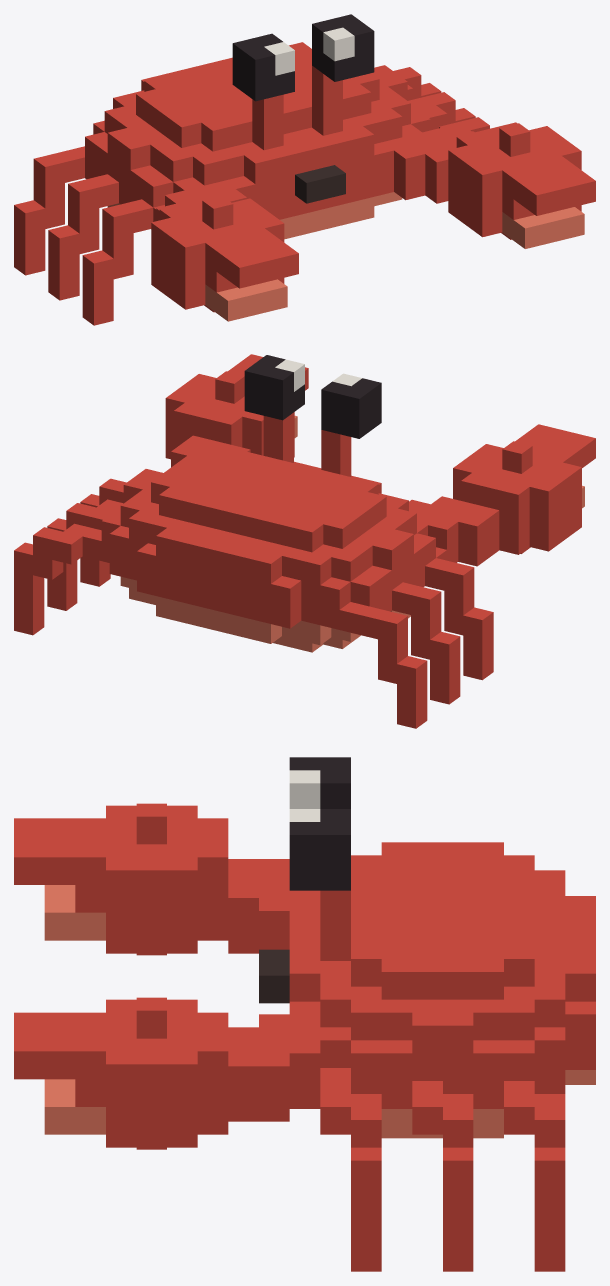
Rendered from crab.glb.
3 renders of one model, top to bottom at view 1: azimuth 30°, elevation 25°; view 2: azimuth 150°, elevation 25°; view 3: azimuth 270°, elevation 25°, orthographic. The views are drawn at different scales.
Visible parts, largest first — view 1: crab; view 2: crab; view 3: crab.
Part boxes in pixels (x1,y1,x2,y2): crab: (14,14,595,325); crab: (14,354,595,728); crab: (14,757,595,1271).
Size of the model in its own units: 2.1 by 1.2 by 1.9.
1 material, 1 textured.
